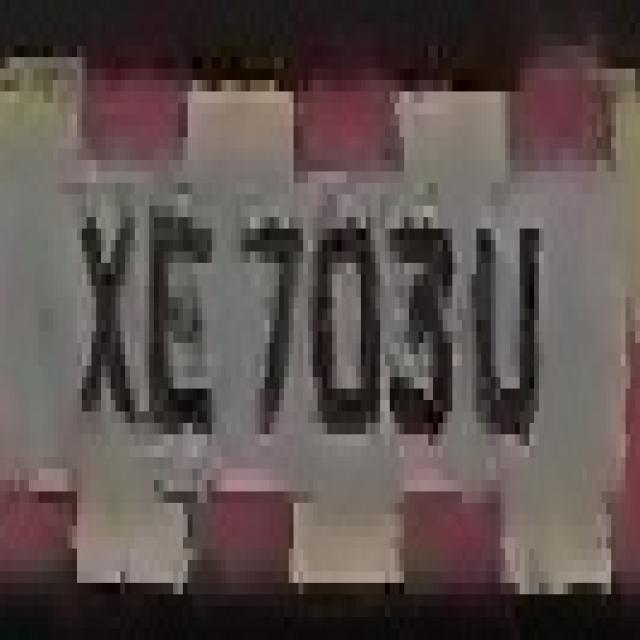0: (308, 171, 390, 480)
3: (395, 194, 452, 469)
7: (236, 171, 313, 480)
E: (135, 183, 221, 480)
U: (462, 172, 553, 457)
X: (62, 160, 144, 469)
